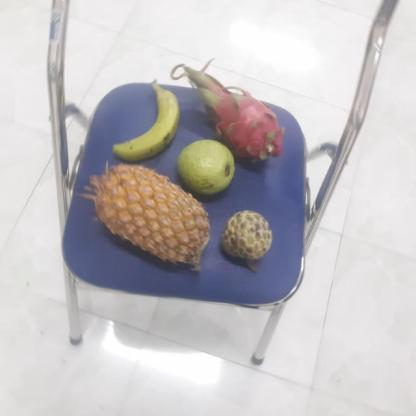annona: (216, 210, 271, 264)
banana: (112, 86, 180, 162)
guava: (174, 139, 236, 196)
pineapple: (90, 164, 209, 270)
pitaya: (192, 84, 279, 162)
